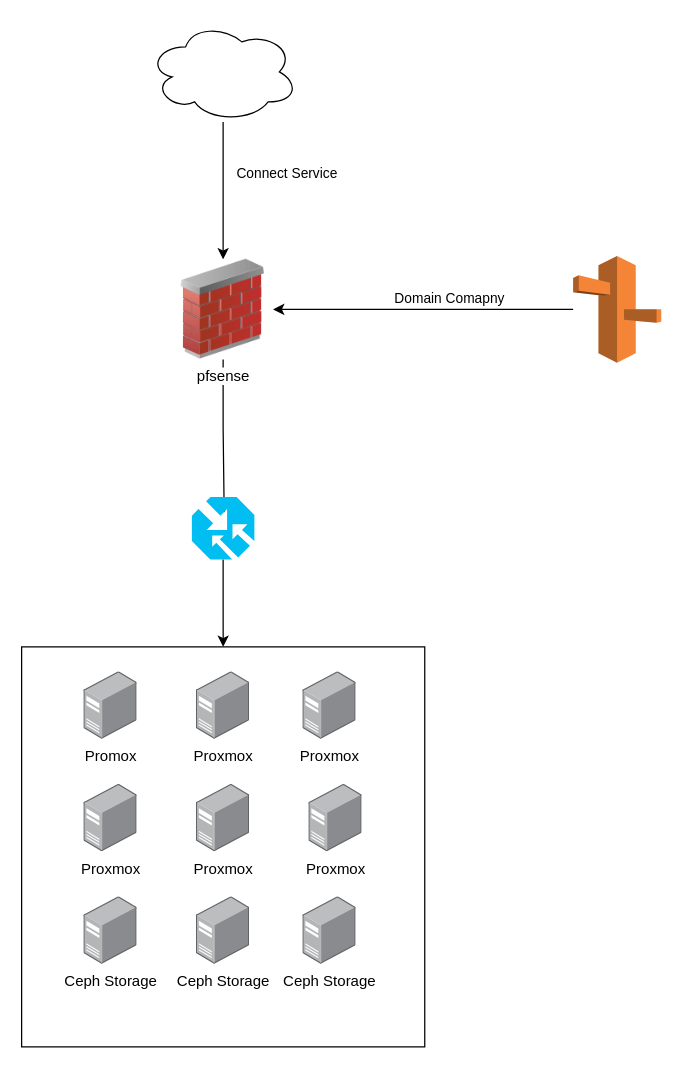
Image size: 684x1069. Some labels were removed from this diagram. Here are the shapes that lost their labels. From the top down, the centre of each, then its label:
At [222,71]: "Internet".
At [616,309]: "Route53".
At [222,527]: "Traefix Proxy".
